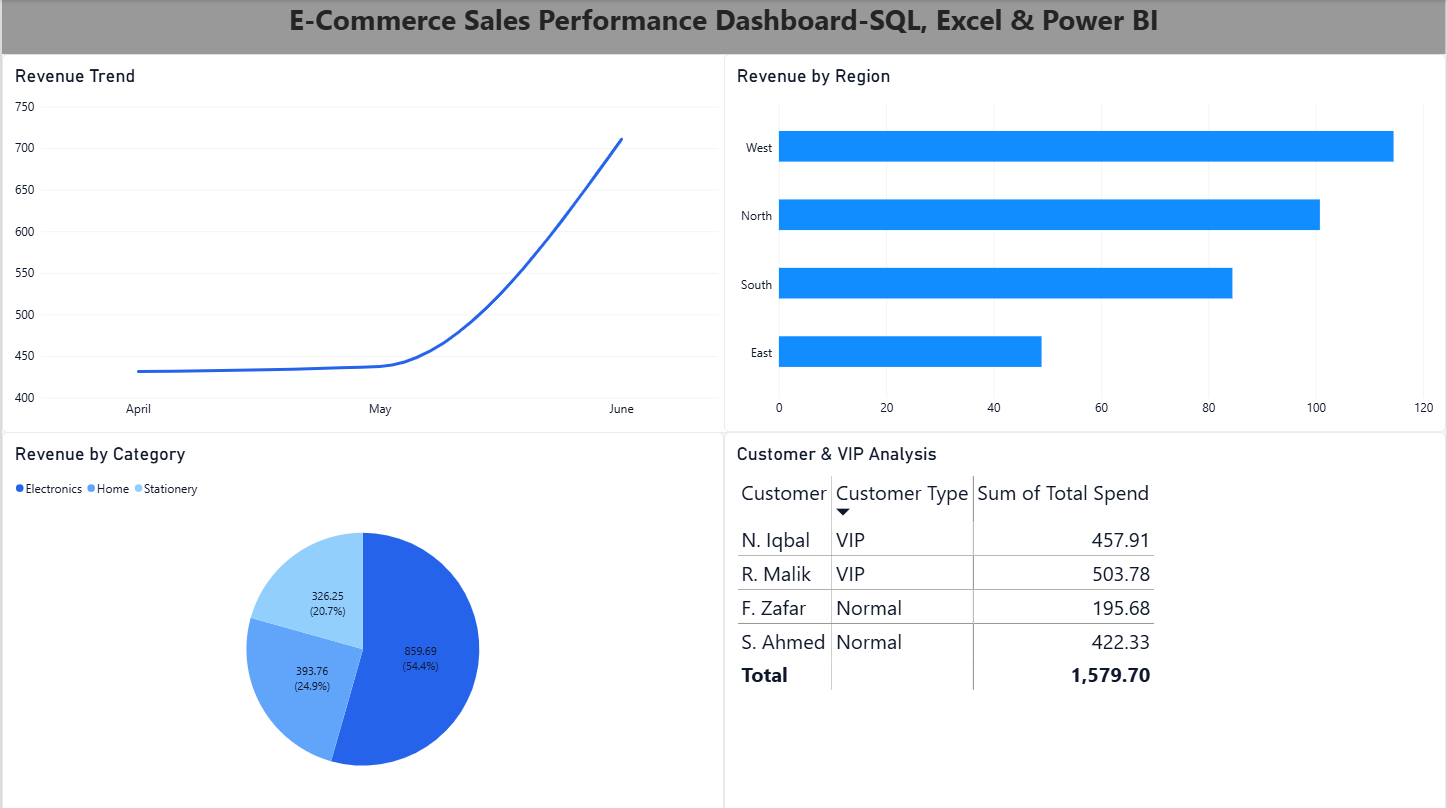

This screenshot's page, from the dashboard's own definition file:
{"tool":"powerbi","page":{"name":"Page 1","canvas":[1920,1080],"ordinal":0},"visuals":[{"type":"lineChart","title":"Revenue Trend","fields":{"Category":["Total Revenue by Month.Month"],"Y":["Sum(Total Revenue by Month.Total_Revenue)"]},"box":[0,71.8,969.6,504.1],"z":0},{"type":"pieChart","title":"Revenue by Category","fields":{"Category":["Total Revenue by Category and P.Category"],"Y":["Sum(Total Revenue by Category and P.Total_Revenue)"]},"box":[0,574.6,960,504.8],"z":1000},{"type":"barChart","title":"Revenue by Region","fields":{"Category":["Average Order Value per Region.Region"],"Y":["Sum(Average Order Value per Region.Average_Order_Value)"]},"box":[960,71.5,960,503.3],"z":2000},{"type":"tableEx","title":"Customer & VIP Analysis","fields":{"Values":["Total Spend by Customer.Customer","Total Spend by Customer.Customer_Type","Sum(Total Spend by Customer.Total_Spend)"]},"box":[960,574.8,960,504.8],"z":3000},{"type":"textbox","box":[0,0,1920,72],"z":4000}]}

Visuals, with their boxes in screenshot pixels (x1, y1, x2, y2), scaled from the page's 1920x1080 canvas onto the 1447x808 screenshot:
"Revenue Trend" lineChart: 0/54/731/431
"Revenue by Category" pieChart: 0/430/724/807
"Revenue by Region" barChart: 724/53/1446/430
"Customer & VIP Analysis" tableEx: 724/430/1446/807
textbox: 0/0/1446/54
